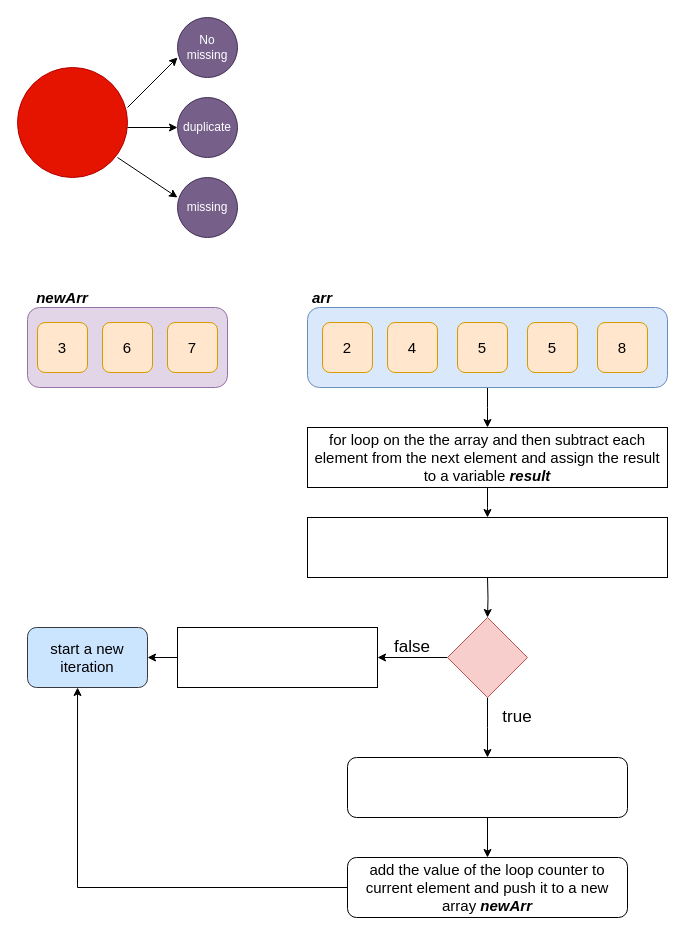
The diagram is 685 pixels wide and 935 high, and some of its shapes have lost their labels. Each missing label, with the centre of its shape:
"for loop starting from 1 to less than subtraction result" goes at [487,787].
"Possibilities" goes at [72,122].
"result > 1" goes at [487,547].
"Then it is either no missing number between them, or they are duplicate" goes at [277,657].
